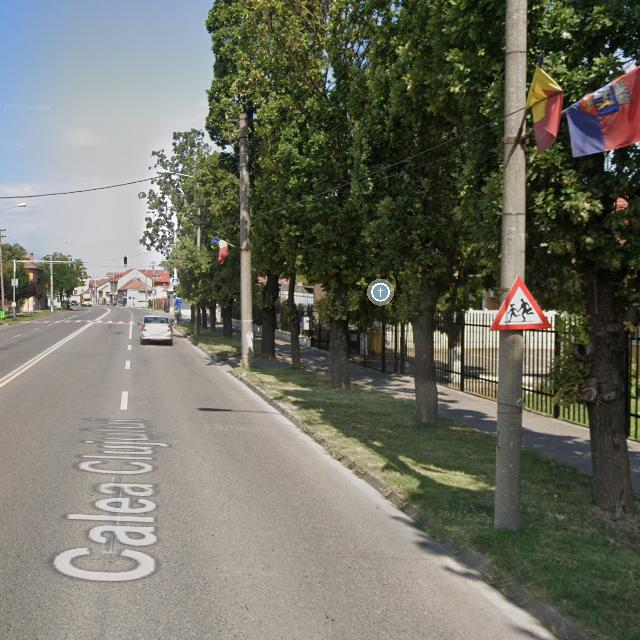warn_children: (490, 276, 550, 330)
